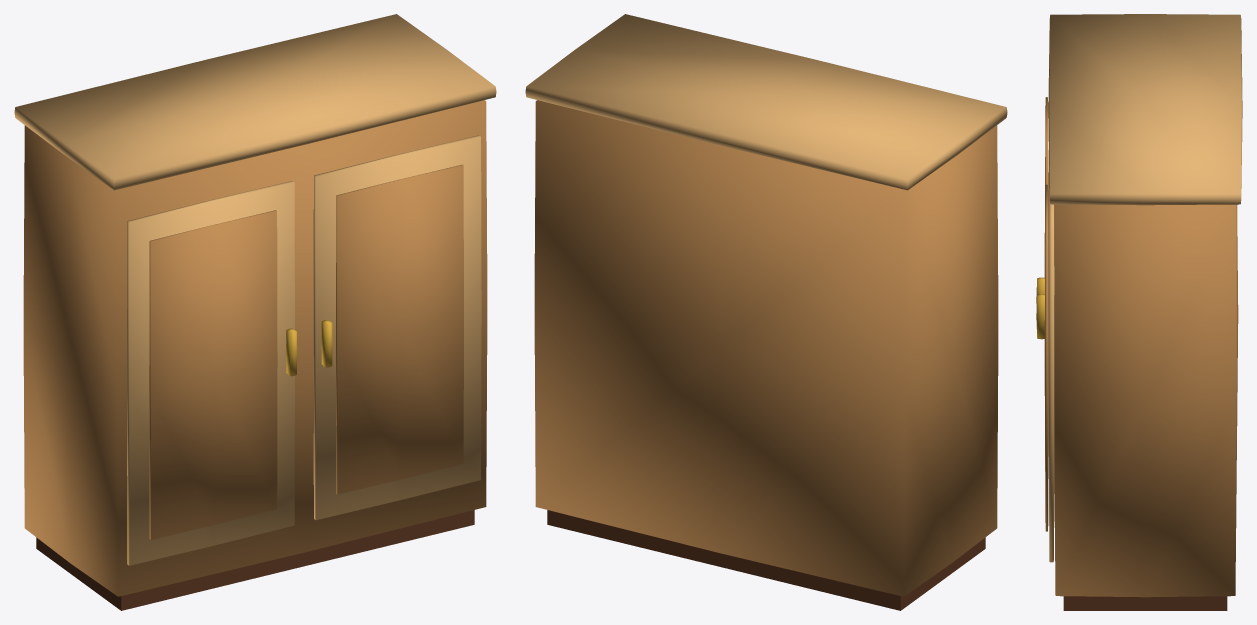
Rendered from wardrobe_small.glb.
The picture shows the model from 3 angles, left to right: view 1: azimuth 30°, elevation 25°; view 2: azimuth 150°, elevation 25°; view 3: azimuth 270°, elevation 25°; orthographic projection. The views are drawn at different scales.
Parts seen in each view (by area): view 1: root; view 2: root; view 3: root.
Part boxes in pixels (x1,y1,x2,y2): root: (14, 14, 496, 610); root: (525, 14, 1007, 610); root: (1036, 14, 1242, 610).
Size of the model in its own units: 1.96 by 2.15 by 0.945.
